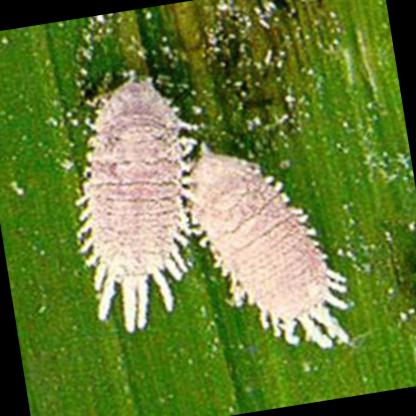mealy bug: (189, 147, 347, 347), (87, 75, 190, 331)
